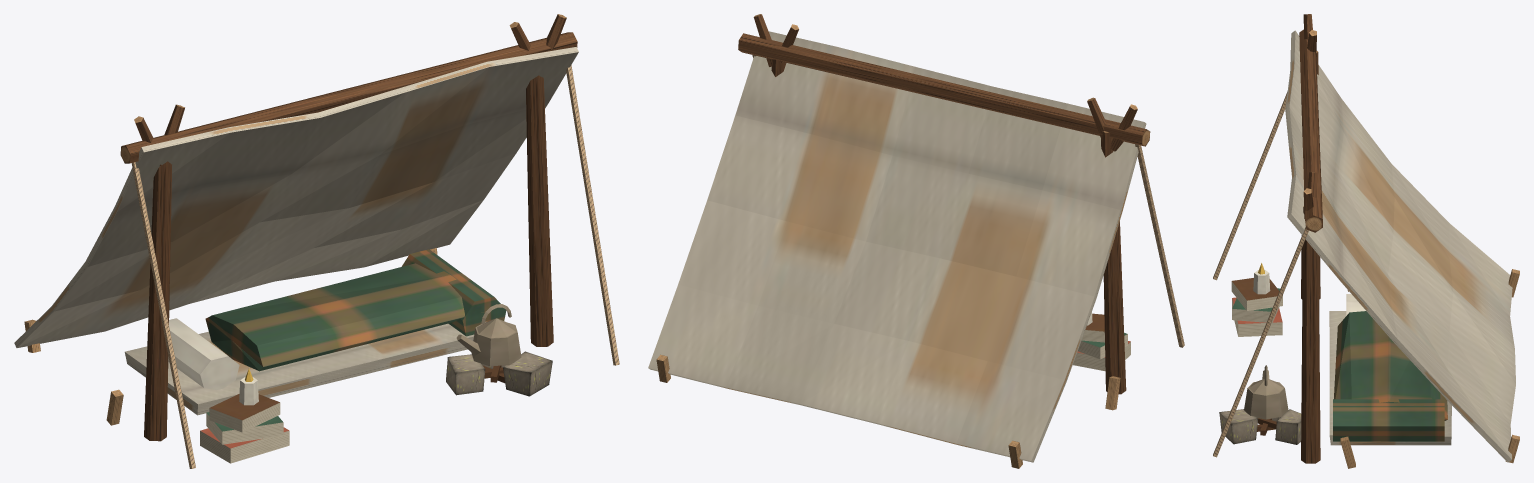
Rendered from barnaby_camp.glb.
The picture shows the model from 3 angles, left to right: view 1: azimuth 30°, elevation 25°; view 2: azimuth 150°, elevation 25°; view 3: azimuth 270°, elevation 25°; orthographic projection. The views are drawn at different scales.
Parts seen in each view (by area): view 1: barnaby_camp; view 2: barnaby_camp; view 3: barnaby_camp.
Part boxes in pixels (<box>): barnaby_camp: <box>14,14,619,468</box>; barnaby_camp: <box>648,14,1184,468</box>; barnaby_camp: <box>1213,14,1519,468</box>.
Bounding box in the file's own units: 1 × 0.6894 × 0.6884.
1 material, 1 textured.
